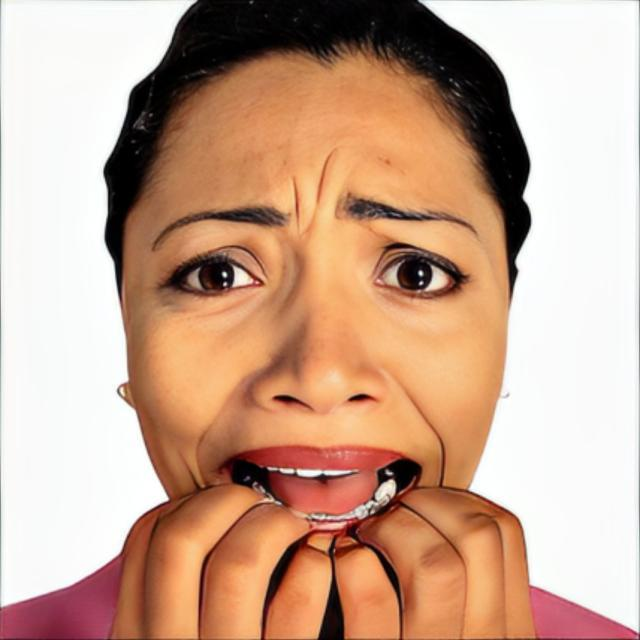fear: (124, 54, 508, 600)
